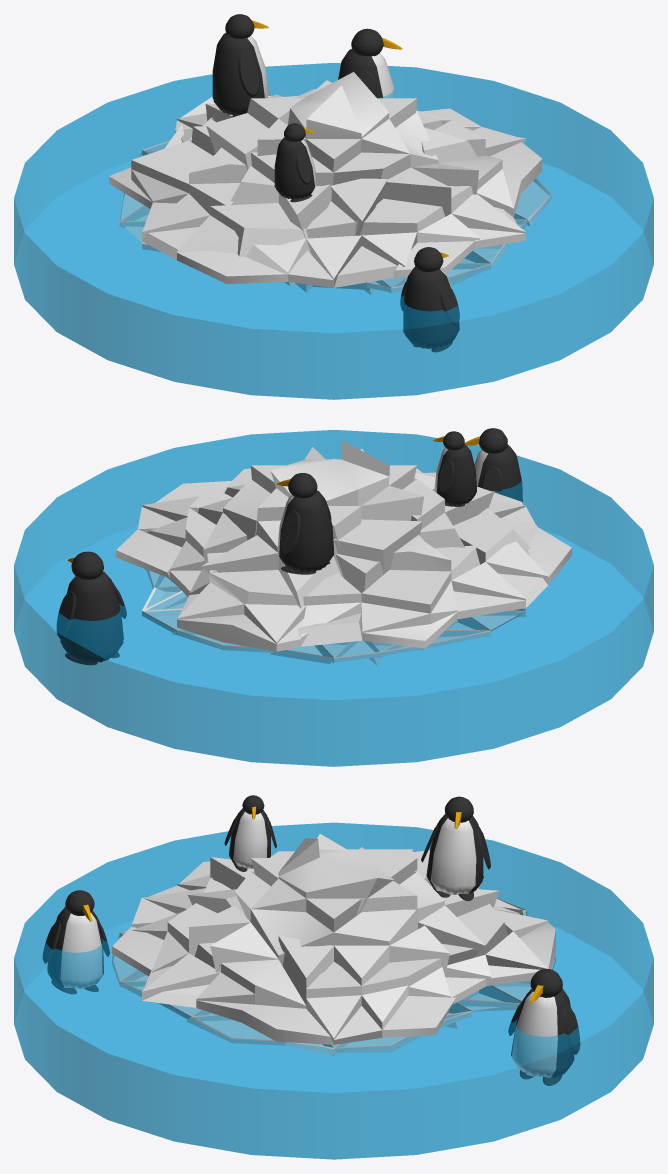
Rendered from penguin_attempt_1.fbx.
3 renders of one model, top to bottom at view 1: azimuth 30°, elevation 25°; view 2: azimuth 150°, elevation 25°; view 3: azimuth 270°, elevation 25°, orthographic.
Parts seen in each view (by area): view 1: pDisc2, pDisc1, pCylinder3, pDisc3, pCylinder2, pCylinder5, pCylinder4; view 2: pDisc2, pDisc1, pDisc3, pCylinder4, pCylinder2, pCylinder3, pCylinder5; view 3: pDisc2, pDisc1, pDisc3, pCylinder4, pCylinder3, pCylinder2, pCylinder5.
Part boxes in pixels (box(x1,y1,x2,y2)): pDisc2: box(14, 63, 653, 399); pDisc1: box(109, 72, 542, 287); pCylinder3: box(400, 247, 459, 352); pDisc3: box(119, 140, 551, 294); pCylinder2: box(212, 14, 269, 117); pCylinder5: box(274, 123, 317, 202); pCylinder4: box(338, 28, 402, 98); pDisc2: box(14, 430, 653, 766); pDisc1: box(116, 441, 571, 651); pDisc3: box(129, 529, 525, 666); pCylinder4: box(56, 551, 126, 665); pCylinder2: box(276, 473, 333, 574); pCylinder3: box(464, 428, 522, 502); pCylinder5: box(433, 431, 476, 506); pDisc2: box(14, 822, 653, 1159); pDisc1: box(112, 834, 555, 1044); pDisc3: box(112, 898, 555, 1055); pCylinder4: box(508, 968, 580, 1085); pCylinder3: box(42, 890, 109, 994); pCylinder2: box(421, 796, 490, 901); pCylinder5: box(224, 795, 276, 871).
Bounding box in the file's own units: 2.88 × 1.08 × 2.88.
